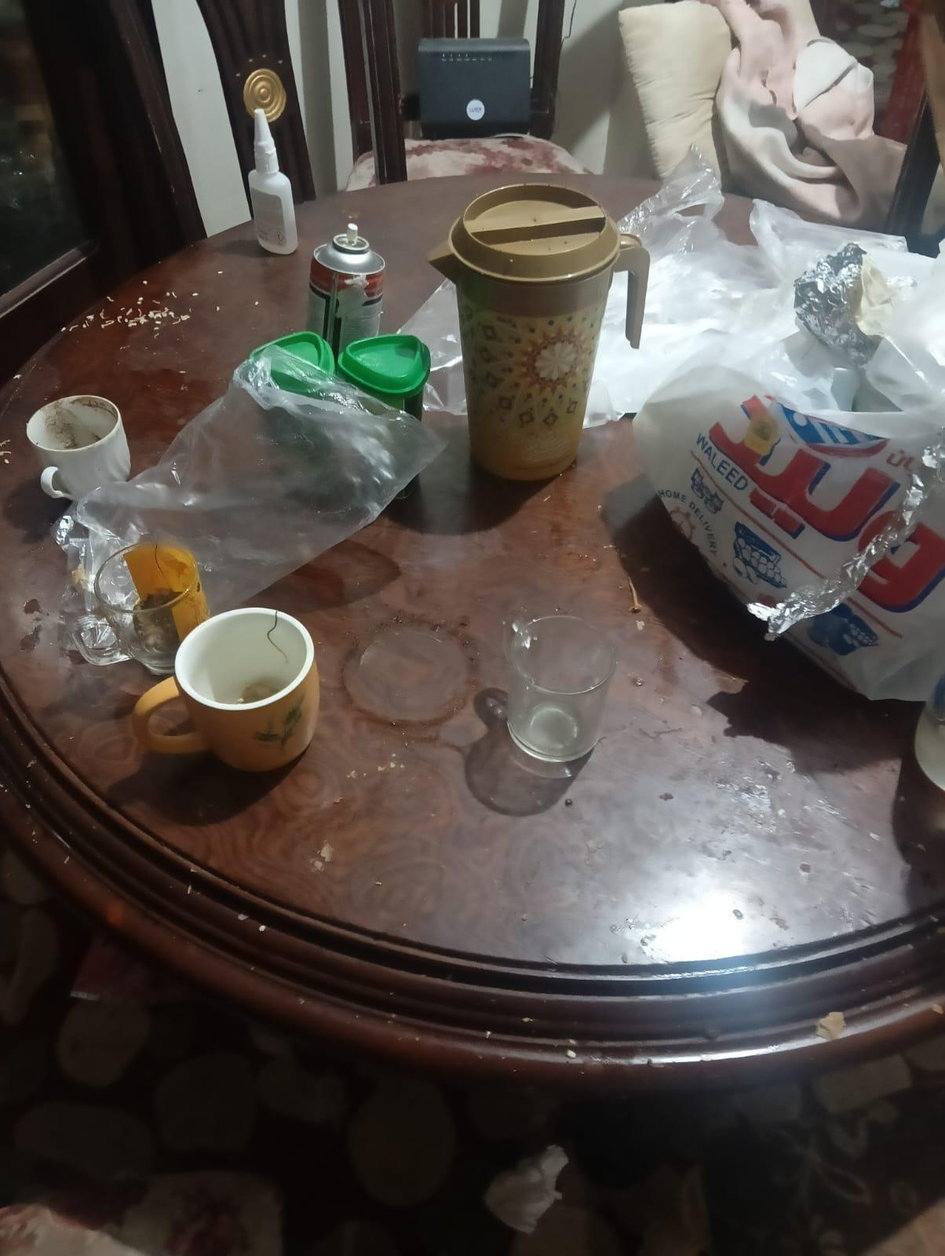cup: (429, 184, 648, 479), (133, 608, 319, 771), (74, 541, 208, 674), (505, 615, 615, 761), (27, 395, 130, 498), (914, 675, 945, 790)
